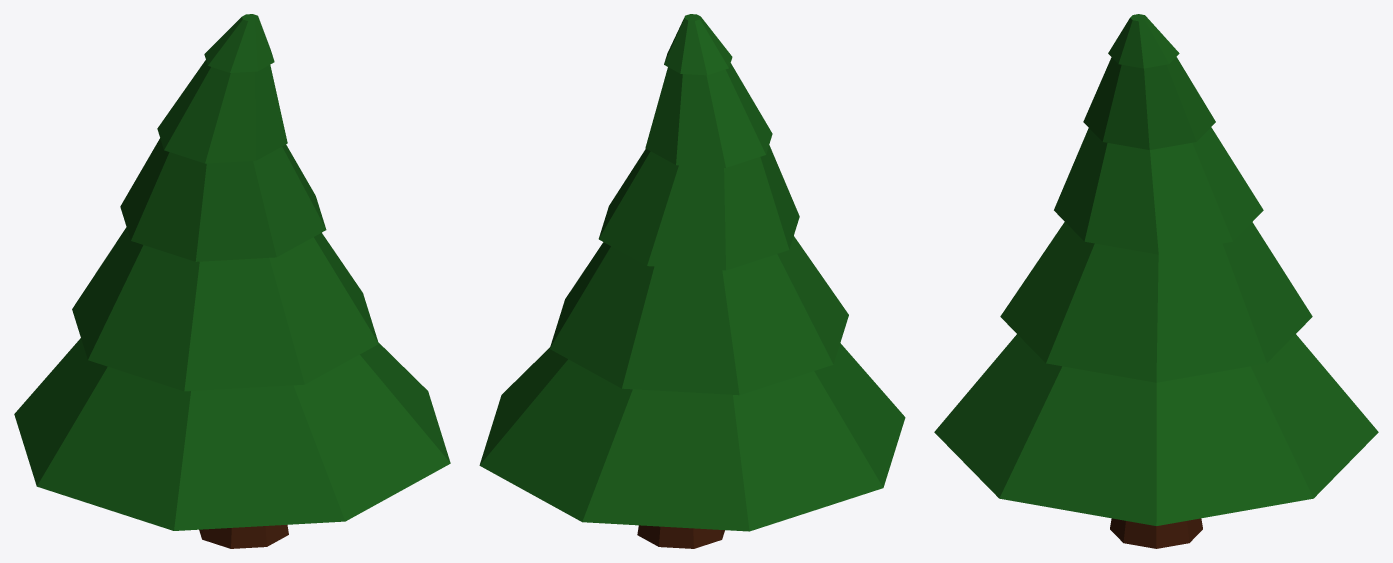
File: pine-tree.glb
3 views of the same model, side by side, from view 1: azimuth 30°, elevation 25°; view 2: azimuth 150°, elevation 25°; view 3: azimuth 270°, elevation 25° (orthographic). The views are drawn at different scales.
Parts seen in each view (by area): view 1: Cylinder.001; view 2: Cylinder.001; view 3: Cylinder.001.
Boxes of the visible parts, x1=… form: Cylinder.001: x1=14, y1=14, x2=450, y2=548; Cylinder.001: x1=479, y1=14, x2=905, y2=548; Cylinder.001: x1=934, y1=14, x2=1378, y2=548.
Size of the model in its own units: 3.16 by 4 by 3.16.
